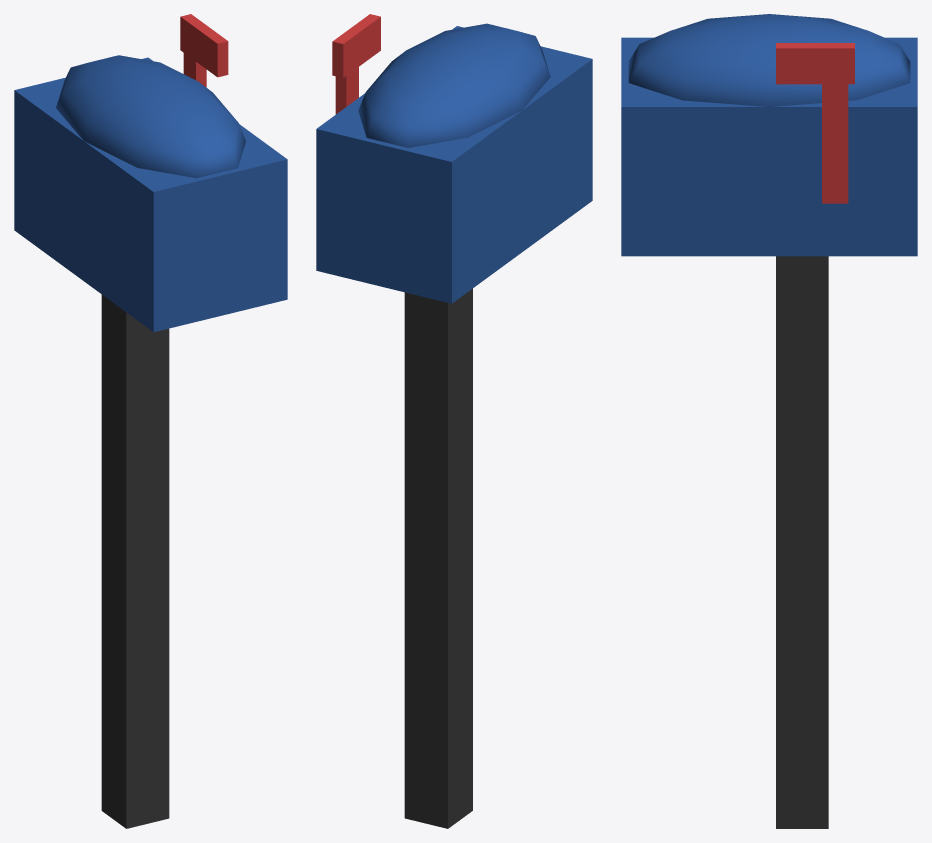
File: mailbox_post.glb
3 renders of one model, left to right at view 1: azimuth 30°, elevation 25°; view 2: azimuth 150°, elevation 25°; view 3: azimuth 270°, elevation 25°, orthographic. The views are drawn at different scales.
Visible parts, largest first — view 1: mailbox_modern; view 2: mailbox_modern; view 3: mailbox_modern.
Part boxes in pixels (x1,y1,x2,y2): mailbox_modern: (14,14,287,828); mailbox_modern: (316,14,592,828); mailbox_modern: (621,14,917,828).
Size of the model in its own units: 0.275 by 1.36 by 0.45.
